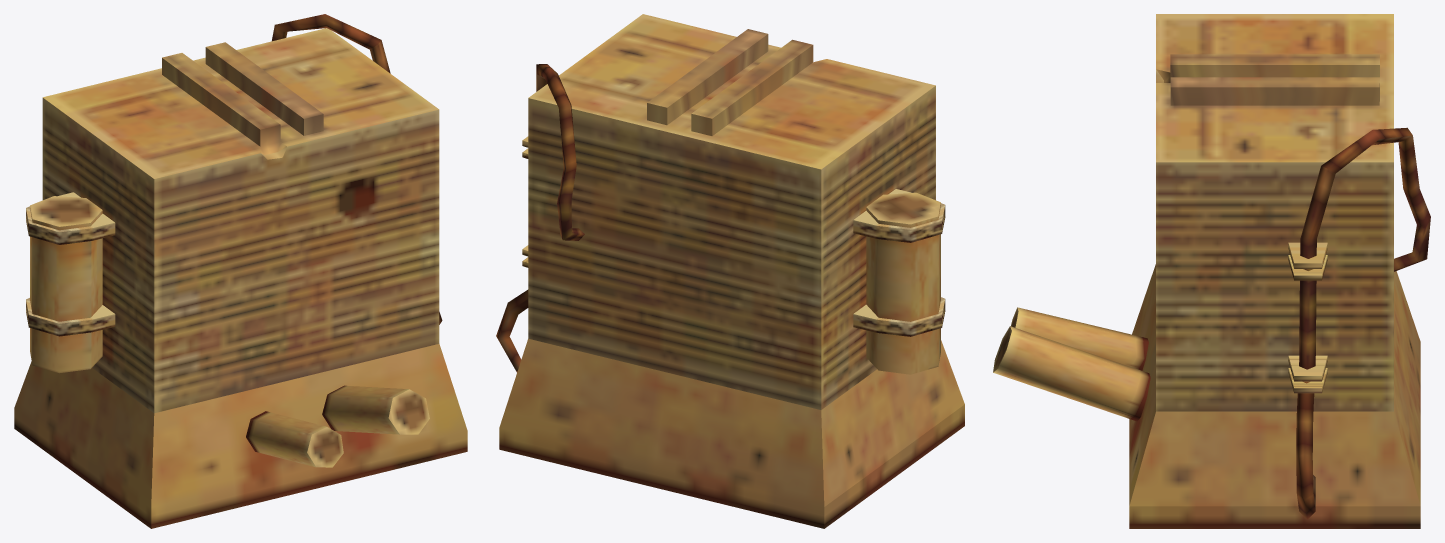
File: eqp_tool_talking_magnetite_cleaner_l0.fbx
3 views of the same model, side by side, from view 1: azimuth 30°, elevation 25°; view 2: azimuth 150°, elevation 25°; view 3: azimuth 270°, elevation 25° (orthographic). The views are drawn at different scales.
Parts seen in each view (by area): view 1: mesh_node; view 2: mesh_node; view 3: mesh_node.
Boxes of the visible parts, x1,y1,x2,y2 form: mesh_node: (14,14,467,528); mesh_node: (496,14,964,528); mesh_node: (993,14,1430,528).
Size of the model in its own units: 0.3334 by 0.2714 by 0.2801.
1 material, 1 textured.
